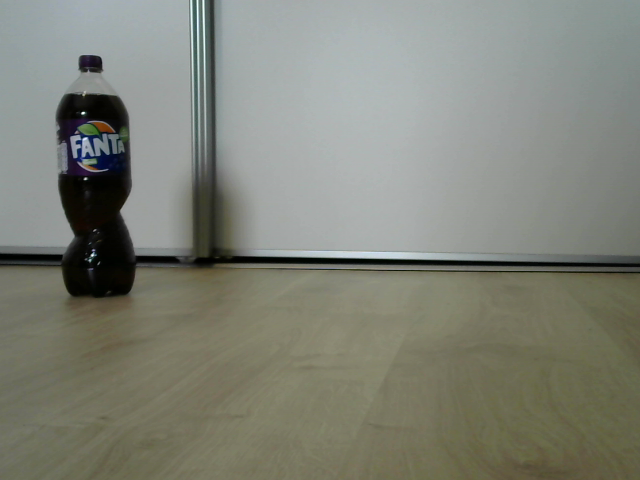bottle: (55, 55, 135, 298)
